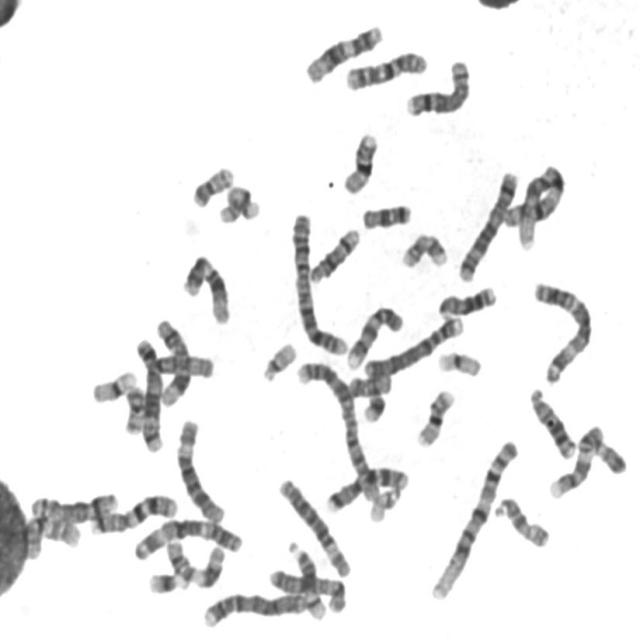A1: (426, 433, 522, 603), (497, 158, 568, 239)
A2: (294, 355, 392, 507), (288, 206, 350, 358)
A3: (529, 274, 597, 385), (130, 512, 247, 563)
B4: (361, 309, 467, 381), (199, 585, 314, 630)
B5: (455, 163, 523, 284), (132, 332, 168, 454)
C10: (342, 44, 430, 92), (20, 508, 83, 560)
C11: (152, 312, 194, 407), (162, 534, 228, 590)
C12: (301, 18, 387, 86), (179, 248, 234, 326)
C6: (276, 472, 354, 580), (172, 412, 228, 524)
C7: (323, 461, 412, 514), (86, 488, 180, 536)
C8: (402, 53, 474, 118), (26, 486, 120, 524)
C9: (546, 419, 607, 501), (343, 299, 406, 369)
D13: (526, 382, 579, 461), (435, 279, 499, 321)
D14: (283, 535, 329, 621), (306, 221, 364, 284)
D15: (491, 491, 553, 550), (147, 353, 216, 381)
E16: (412, 382, 458, 450), (339, 126, 381, 196)
E17: (398, 227, 451, 270), (216, 184, 262, 224)
E18: (358, 197, 415, 231), (346, 369, 395, 398)
F19: (88, 364, 140, 404), (434, 344, 486, 378)
F20: (189, 160, 237, 209), (120, 381, 148, 436)
G21: (144, 565, 186, 596), (359, 386, 389, 424)
G22: (258, 336, 300, 383), (364, 481, 403, 524)
X: (265, 563, 349, 615), (152, 312, 194, 407)
Y: (592, 433, 630, 475)
